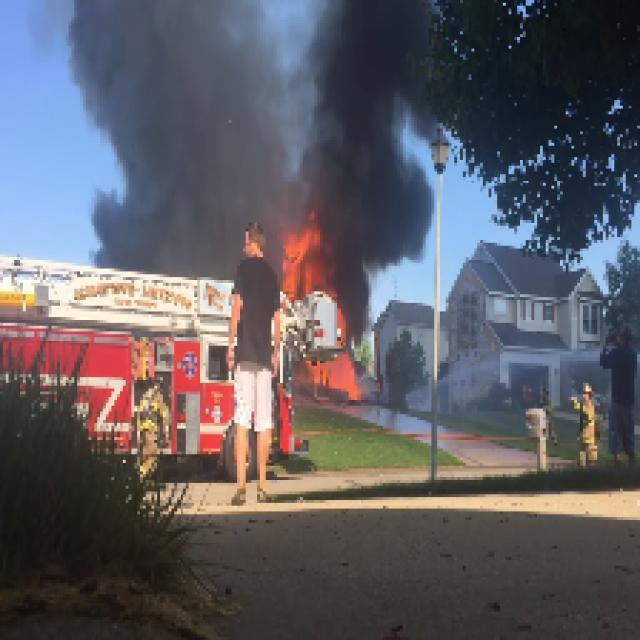Fire: (283, 217, 326, 289)
Smoke: (60, 3, 286, 214), (288, 3, 428, 203), (343, 205, 426, 308)
